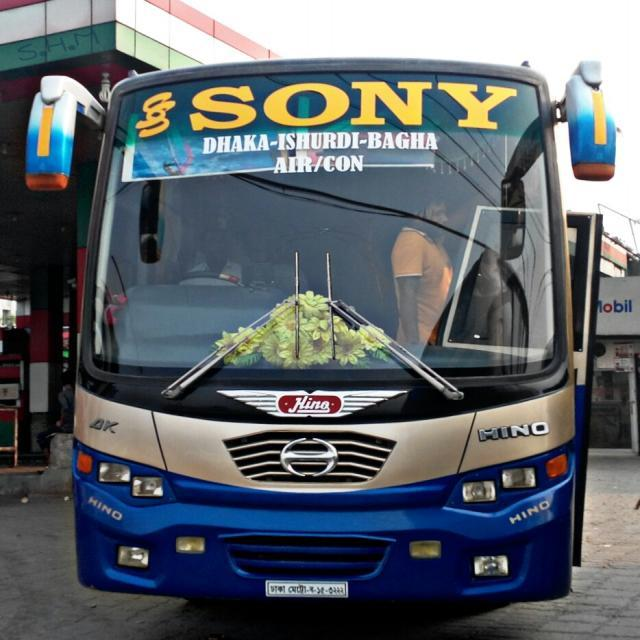bus: (21, 56, 620, 609)
